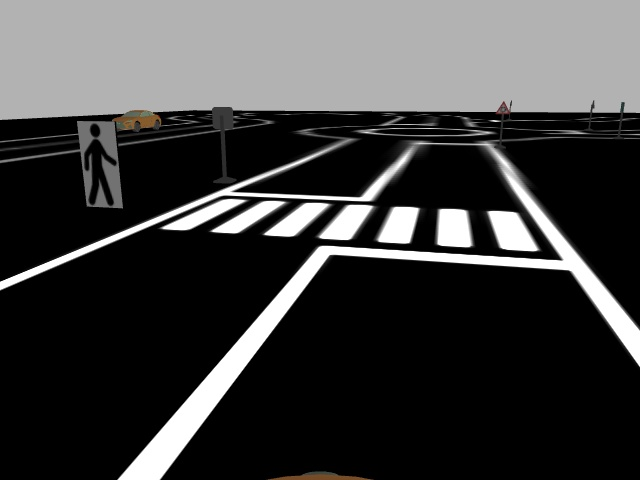pedestrian: (74, 117, 124, 210)
